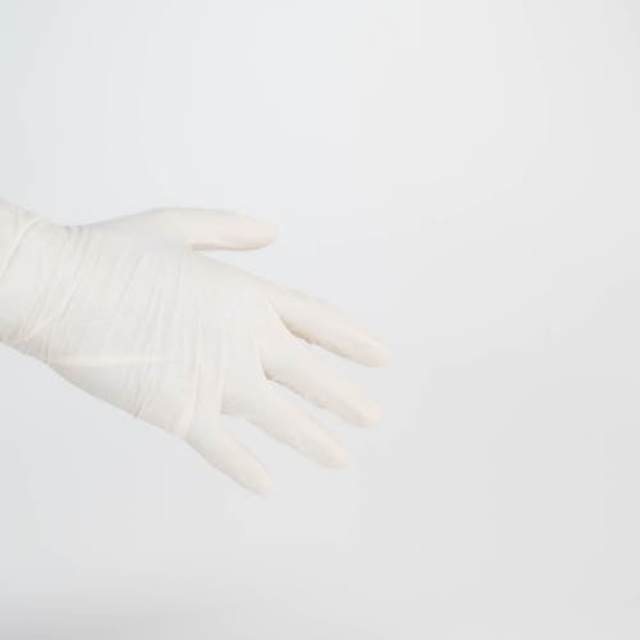Guantes: (0, 180, 395, 495)
